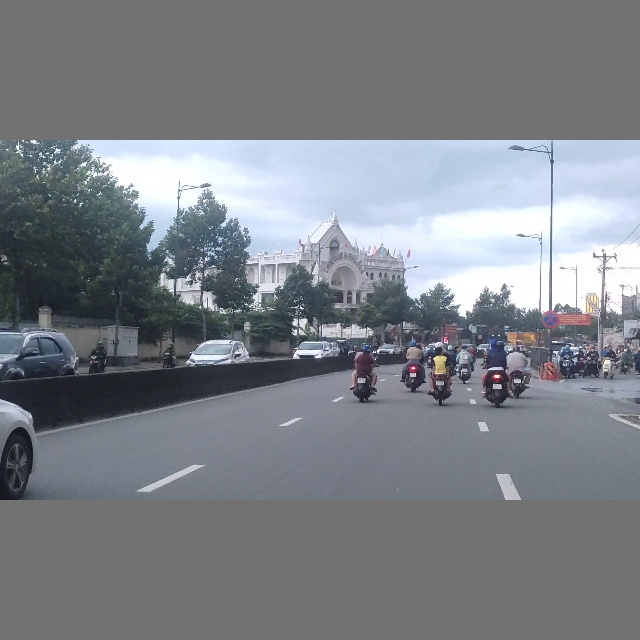P.130: (541, 311, 559, 328)
